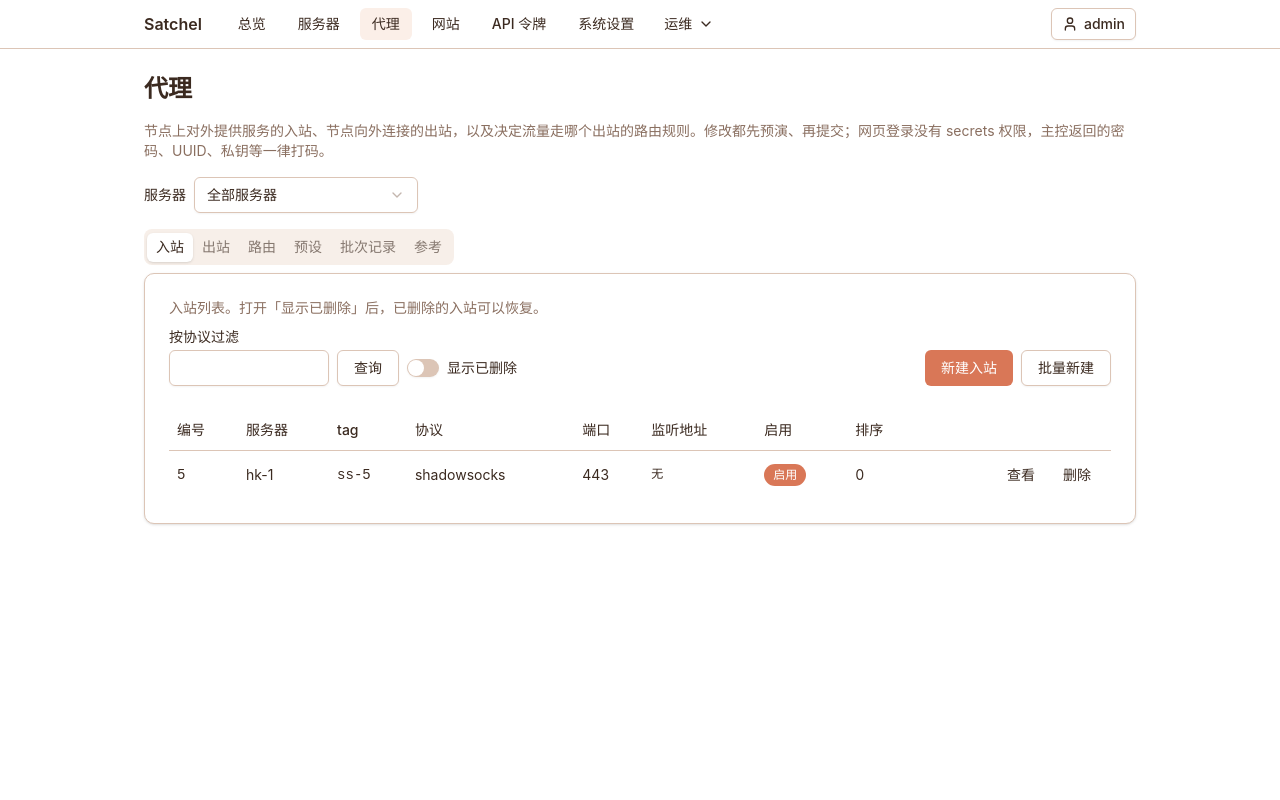
Test case: 代理页：入站 › 入站详情里的打码：settings 写明已打码、不显示 ***；显示 Reality 公钥
The width and height of the screenshot is (1280, 800).
Click the button "查看": (1021, 474) [995,458,1047,490]
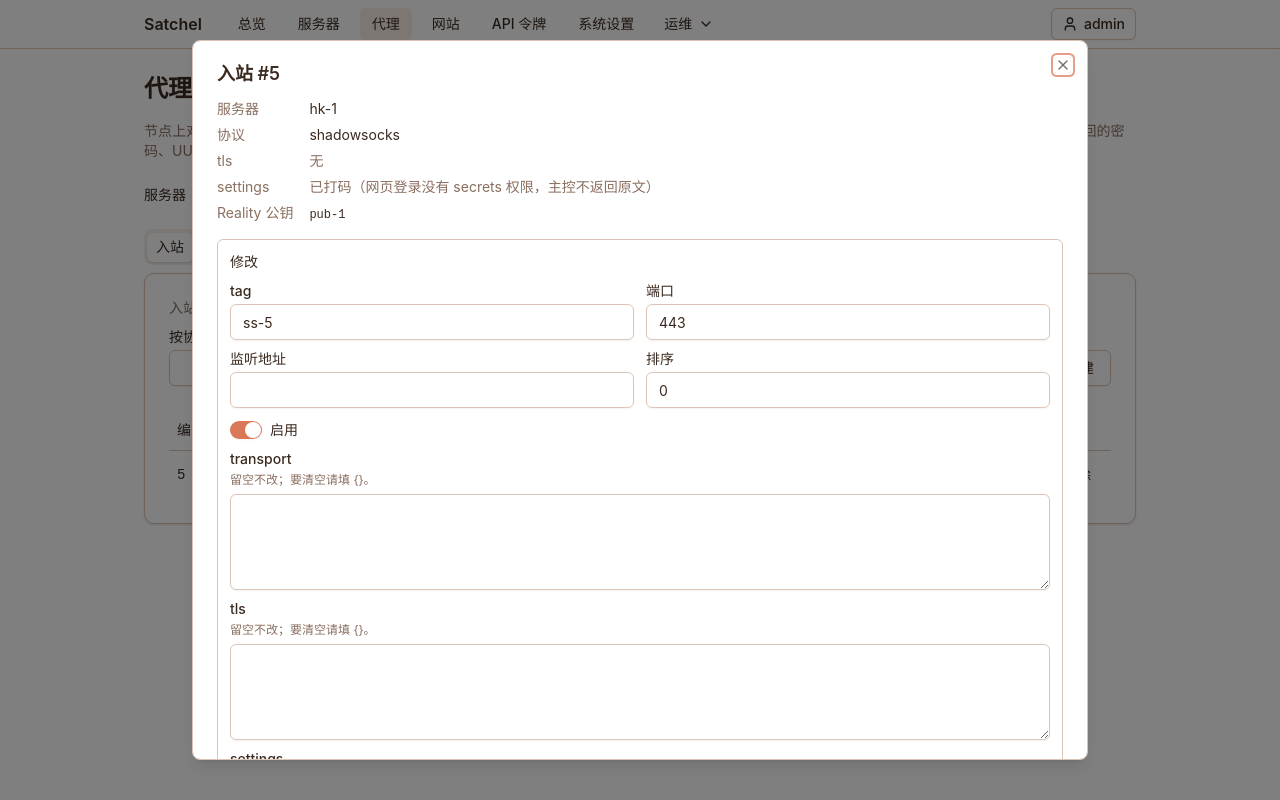
Result: the text "已打码（网页登录没有 secrets 权限，主控不返回原文）" is shown at [309,178,660,195]
Result: the text "pub-1" is shown at [309,208,345,222]
